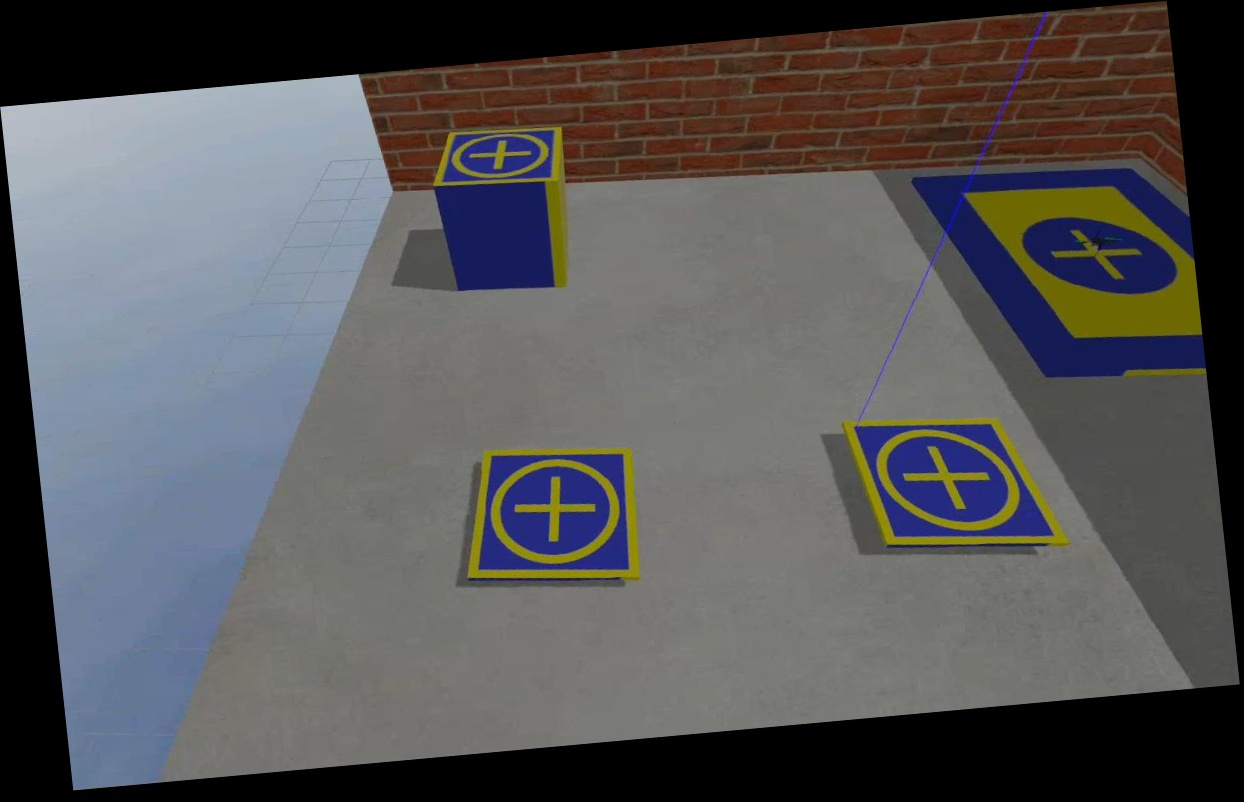large_base: (909, 147, 1209, 398)
small_base: (842, 397, 1071, 568), (452, 438, 645, 593), (428, 119, 571, 200)
